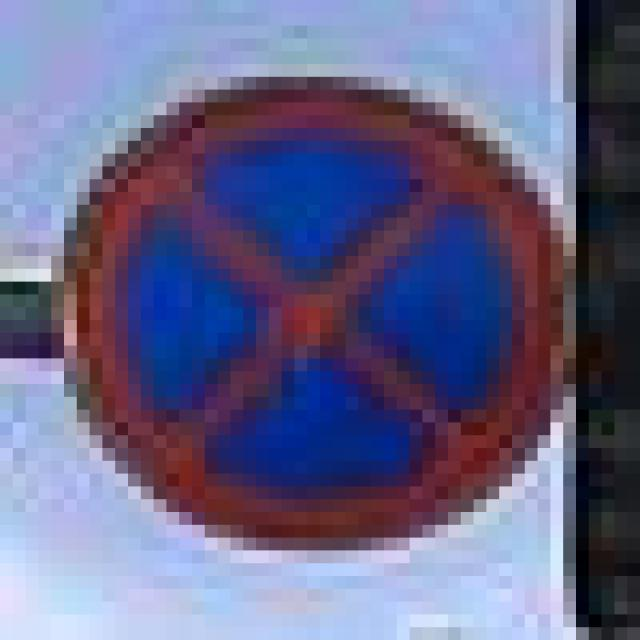no_parking: (51, 64, 563, 538)
